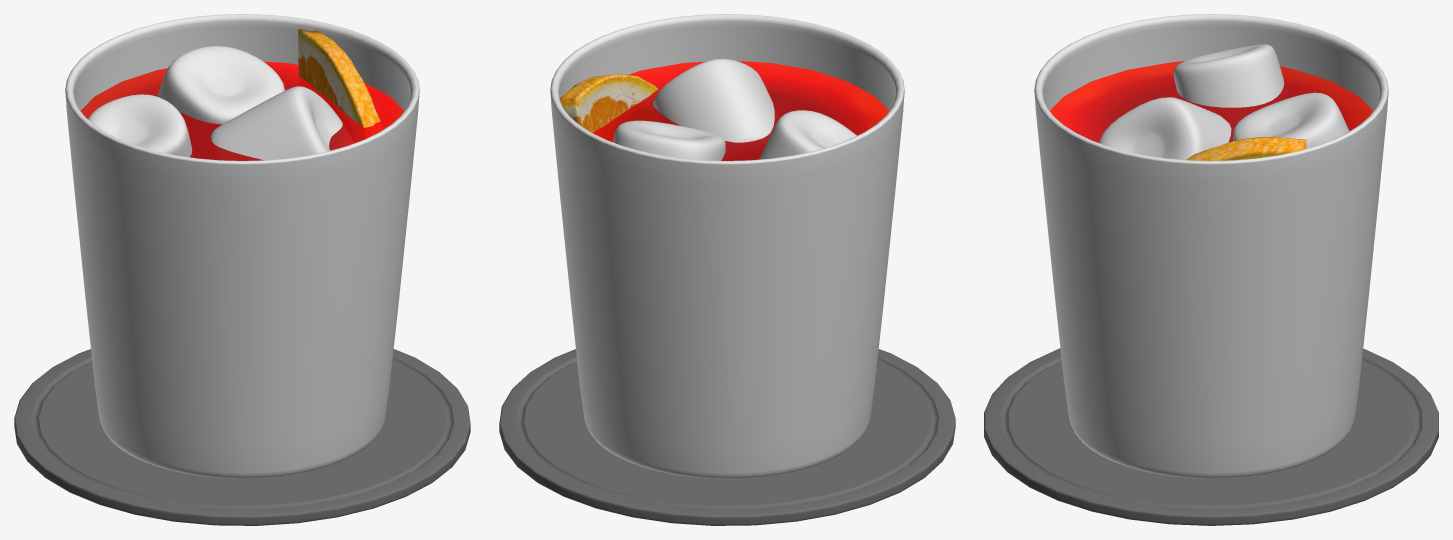
Rendered from negroni-draco.glb.
3 views of the same model, side by side, from view 1: azimuth 30°, elevation 25°; view 2: azimuth 150°, elevation 25°; view 3: azimuth 270°, elevation 25° (orthographic).
Visible parts, largest first — view 1: glass, posavasos, ice, liquido, limon; view 2: glass, posavasos, ice, liquido, limon; view 3: glass, posavasos, ice, liquido, limon.
Boxes of the visible parts, box(x1,y1,x2,y2) form: glass: box(65, 14, 419, 478); posavasos: box(14, 349, 470, 525); ice: box(88, 46, 342, 160); liquido: box(80, 61, 404, 160); limon: box(297, 29, 380, 127); glass: box(550, 14, 904, 478); posavasos: box(499, 349, 955, 525); ice: box(613, 59, 856, 160); liquido: box(593, 61, 889, 160); limon: box(560, 74, 658, 133); glass: box(1034, 14, 1388, 478); posavasos: box(984, 348, 1438, 525); ice: box(1099, 44, 1349, 159); liquido: box(1050, 61, 1372, 142); limon: box(1186, 136, 1306, 160).
Bounding box in the file's own units: 0.4987 × 0.4182 × 0.4966.
4 materials, 2 textured.
